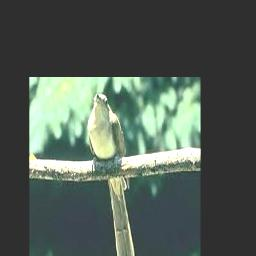Cuckoo: (87, 94, 135, 256)
